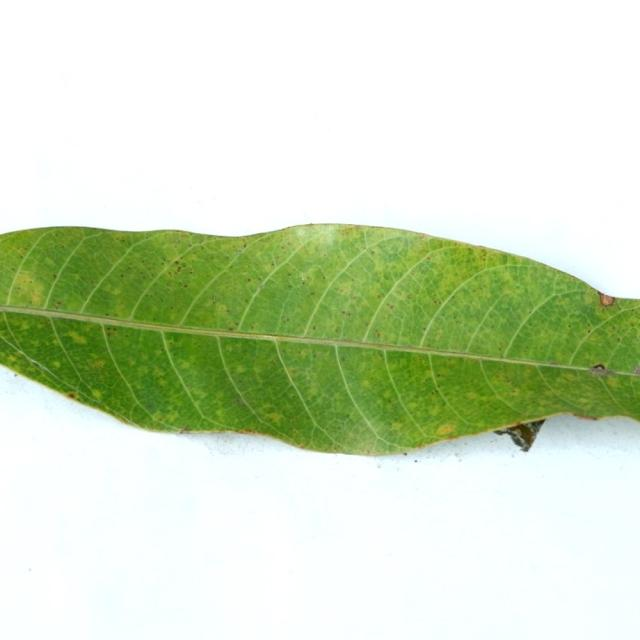Mango: (0, 225, 639, 454)
Powdery_Mildew: (26, 278, 48, 301), (333, 278, 356, 297), (122, 356, 143, 374), (66, 330, 89, 345), (87, 386, 106, 403), (211, 302, 231, 318), (150, 410, 169, 423), (436, 423, 456, 435), (266, 412, 284, 424), (305, 386, 320, 400), (233, 364, 248, 375), (465, 392, 482, 401), (381, 390, 394, 400), (18, 321, 31, 331), (93, 359, 106, 369), (105, 327, 118, 337), (340, 227, 354, 236), (234, 397, 246, 407), (391, 421, 404, 430), (5, 354, 18, 363), (179, 362, 190, 372), (110, 287, 122, 296), (385, 303, 397, 311), (362, 380, 372, 389), (166, 269, 176, 277), (16, 246, 26, 254), (525, 365, 534, 373), (479, 248, 487, 257), (51, 361, 61, 368), (341, 310, 351, 317), (418, 233, 427, 239), (431, 389, 438, 396), (282, 317, 289, 323), (434, 300, 442, 305), (375, 330, 380, 338), (611, 326, 618, 331), (426, 257, 431, 263), (406, 294, 411, 300), (301, 279, 306, 284), (211, 296, 216, 301), (271, 361, 276, 366), (270, 262, 275, 267), (228, 327, 234, 331), (247, 278, 252, 282), (183, 284, 187, 288), (120, 274, 124, 278), (313, 325, 316, 329)
